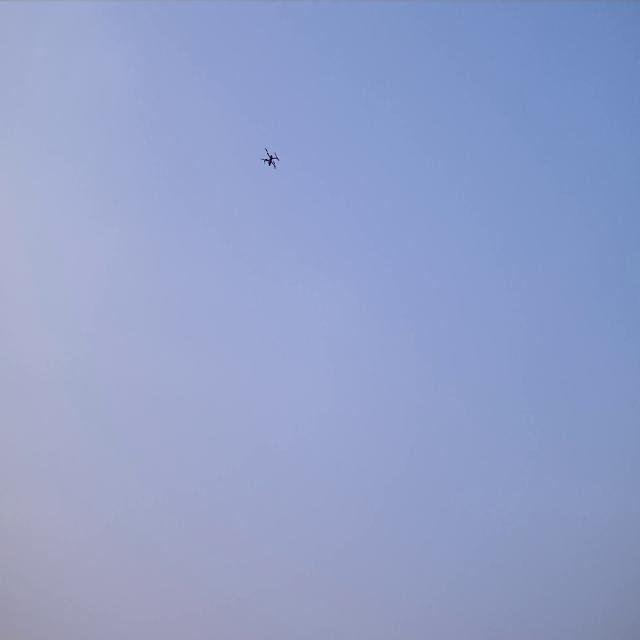UAV: (260, 146, 280, 172)
